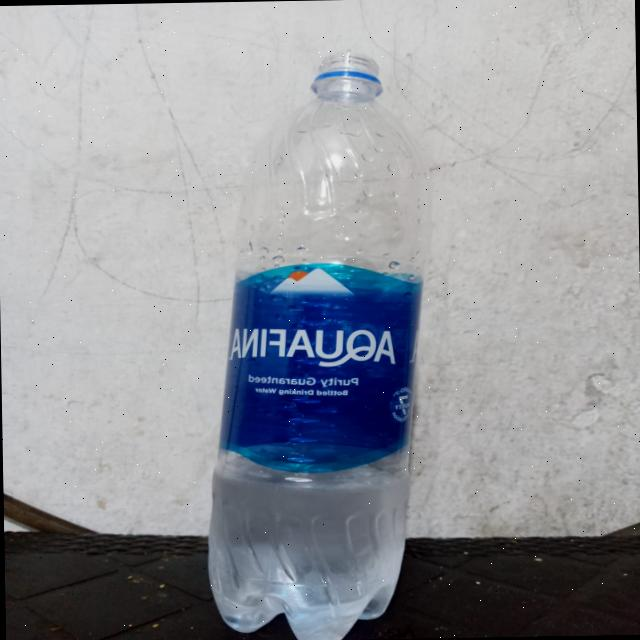bottle: (183, 41, 455, 640)
label: (198, 253, 434, 471)
